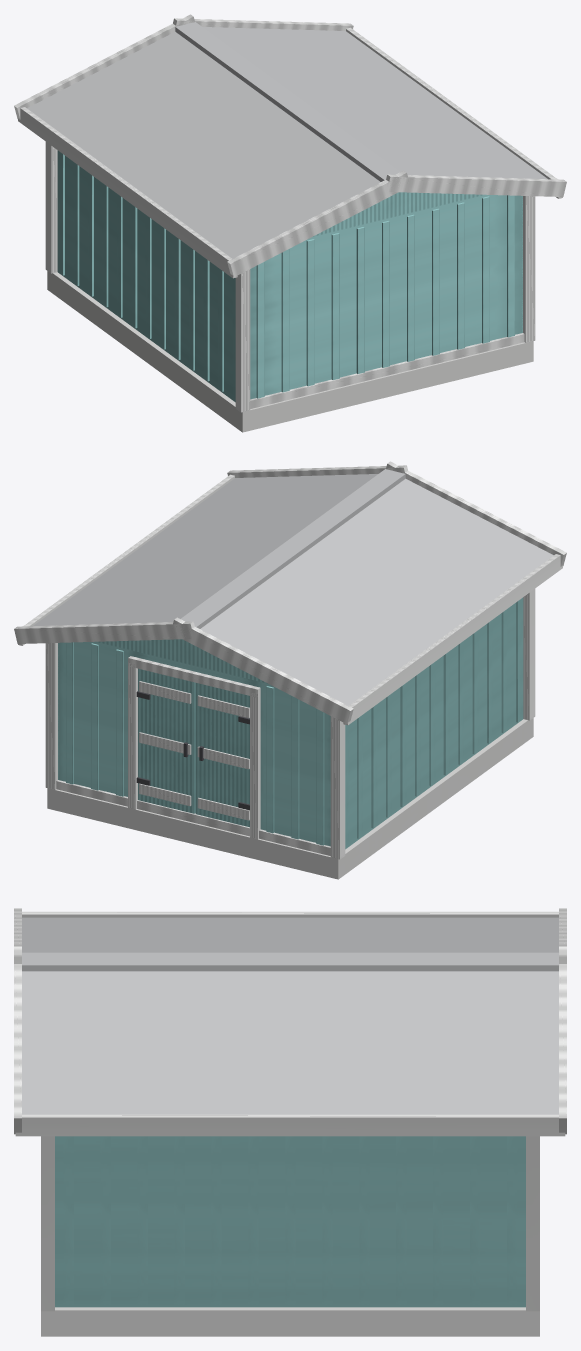
The model's file is shed.glb.
The picture shows the model from 3 angles, top to bottom: view 1: azimuth 30°, elevation 25°; view 2: azimuth 150°, elevation 25°; view 3: azimuth 270°, elevation 25°; orthographic projection. The views are drawn at different scales.
Visible parts, largest first — view 1: Roof_L, Wall_Rear, Roof_R, Wall_W, Foundation, RidgeCap, FasciaEave_-1, Barge_L_-1, Barge_R_-1, Skirt_R, CornerTrim_-1-1, Gable_Rear (+28 smaller); view 2: Roof_L, Roof_R, Wall_W, Foundation, Wall_Front_L, Wall_Front_R, Door_R, Door_L, RidgeCap, FasciaEave_-1, Barge_L_1, Barge_R_1 (+36 smaller); view 3: Roof_R, Wall_E, Roof_L, Foundation, FasciaEave_1, RidgeCap, FasciaEave_-1, CornerTrim_1-1, CornerTrim_11, Batten_E_-3, Batten_E_-2, Batten_E_-1 (+12 smaller).
Boxes of the visible parts, x1=… form: Roof_L: x1=27, y1=31, x2=380, y2=258; Wall_Rear: x1=250, y1=194, x2=522, y2=399; Roof_R: x1=203, y1=27, x2=547, y2=178; Wall_W: x1=57, y1=150, x2=235, y2=402; Foundation: x1=47, y1=271, x2=533, y2=432; RidgeCap: x1=175, y1=22, x2=399, y2=181; FasciaEave_-1: x1=18, y1=107, x2=237, y2=278; Barge_L_-1: x1=227, y1=170, x2=407, y2=277; Barge_R_-1: x1=386, y1=174, x2=566, y2=196; Skirt_R: x1=250, y1=333, x2=524, y2=408; CornerTrim_-1-1: x1=235, y1=269, x2=250, y2=412; Gable_Rear: x1=313, y1=192, x2=484, y2=236; Roof_L: x1=200, y1=478, x2=553, y2=705; Roof_R: x1=33, y1=474, x2=377, y2=625; Wall_W: x1=345, y1=597, x2=523, y2=849; Foundation: x1=47, y1=718, x2=533, y2=879; Wall_Front_L: x1=254, y1=680, x2=330, y2=846; Wall_Front_R: x1=58, y1=641, x2=136, y2=796; Door_R: x1=138, y1=668, x2=195, y2=813; Door_L: x1=195, y1=683, x2=249, y2=827; RidgeCap: x1=181, y1=469, x2=405, y2=628; FasciaEave_-1: x1=343, y1=554, x2=562, y2=725; Barge_L_1: x1=173, y1=617, x2=353, y2=724; Barge_R_1: x1=14, y1=621, x2=194, y2=643; Roof_R: x1=22, y1=971, x2=558, y2=1114; Wall_E: x1=55, y1=1136, x2=525, y2=1307; Roof_L: x1=22, y1=917, x2=558, y2=952; Foundation: x1=41, y1=1307, x2=539, y2=1336; FasciaEave_1: x1=15, y1=1114, x2=565, y2=1136; RidgeCap: x1=22, y1=952, x2=558, y2=971; FasciaEave_-1: x1=22, y1=911, x2=558, y2=917; CornerTrim_1-1: x1=41, y1=1136, x2=54, y2=1311; CornerTrim_11: x1=526, y1=1136, x2=539, y2=1311; Batten_E_-3: x1=174, y1=1136, x2=184, y2=1305; Batten_E_-2: x1=211, y1=1136, x2=221, y2=1305; Batten_E_-1: x1=248, y1=1136, x2=258, y2=1305.
Size of the model in its own units: 4.3 by 2.81 by 4.79.
Materials: 6 (6 with a texture image).
